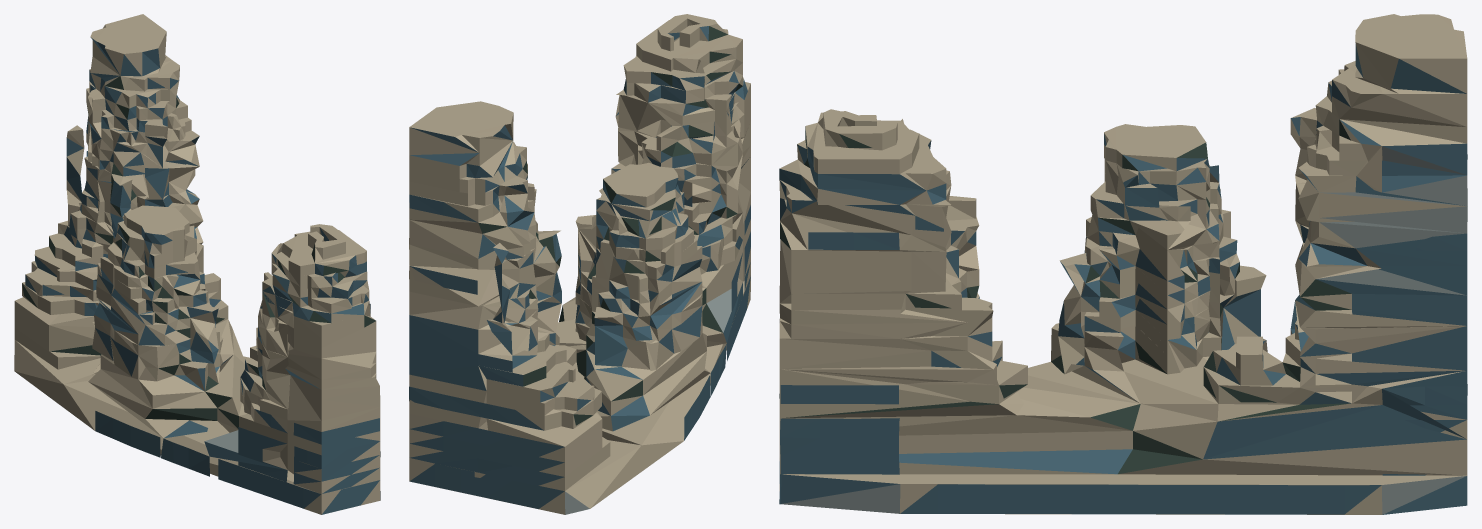
The model's file is valley.lod2.glb.
3 renders of one model, left to right at view 1: azimuth 30°, elevation 25°; view 2: azimuth 150°, elevation 25°; view 3: azimuth 270°, elevation 25°, orthographic. The views are drawn at different scales.
Parts seen in each view (by area): view 1: lod2; view 2: lod2; view 3: lod2.
Part boxes in pixels (x1,y1,x2,y2): lod2: (14, 14, 380, 514); lod2: (409, 14, 750, 514); lod2: (779, 14, 1467, 514).
Bounding box in the file's own units: 53.18 × 100 × 140.
